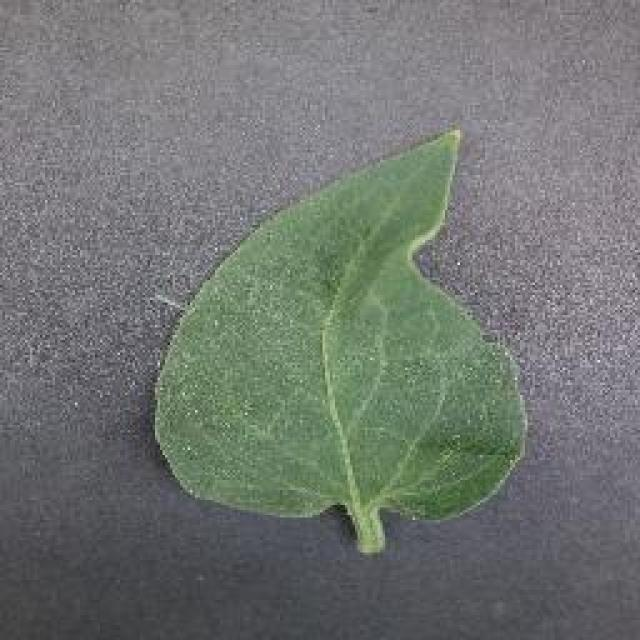Tomato healthy leaf: (161, 126, 521, 552)
